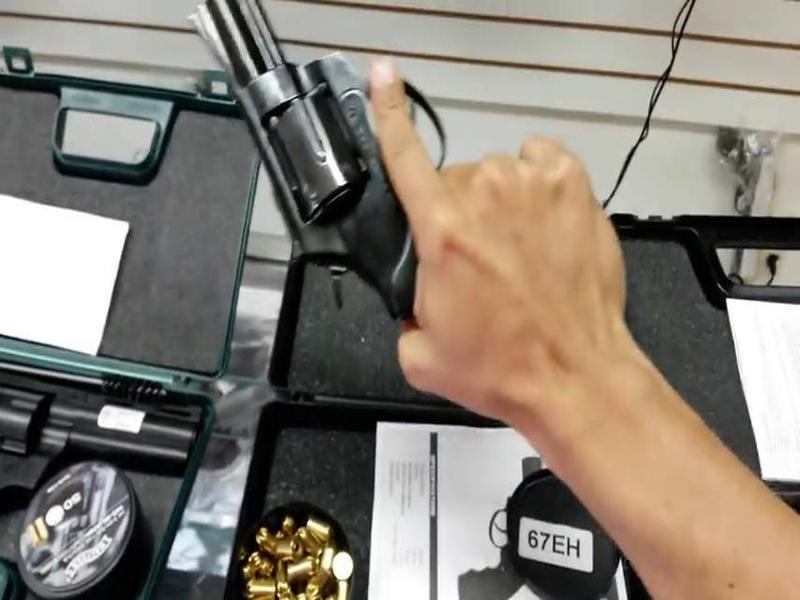Revolver: (179, 1, 493, 346)
